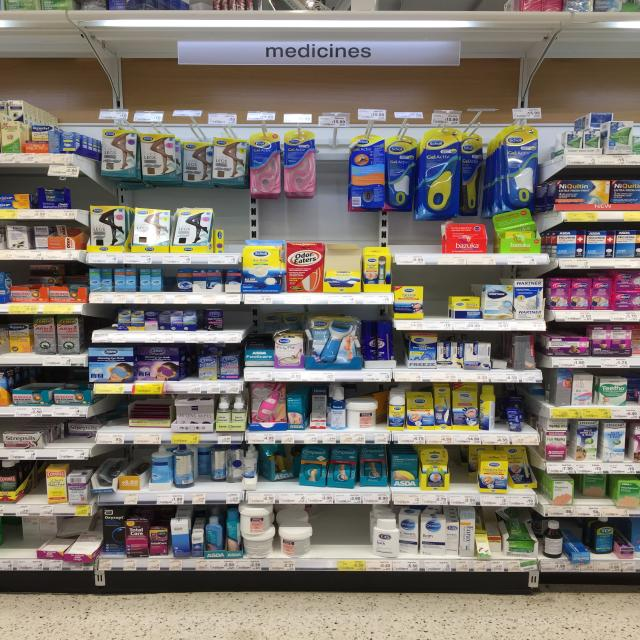empty: (306, 504, 370, 561), (394, 223, 446, 261), (14, 462, 51, 508), (421, 282, 454, 321)
